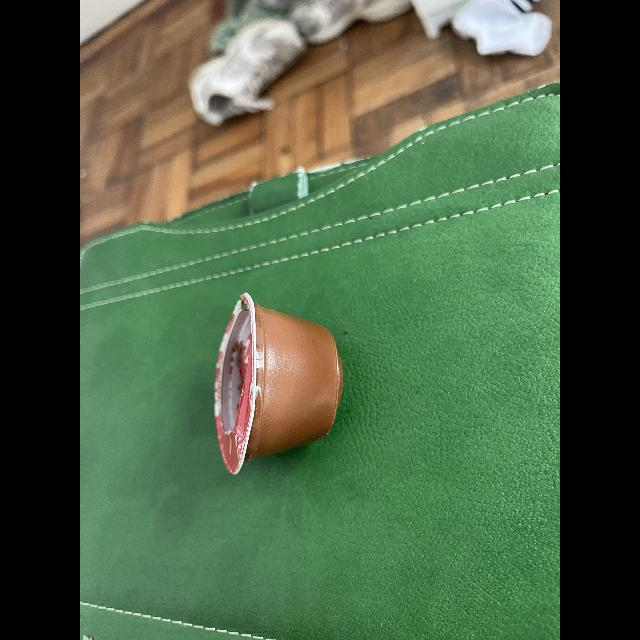damaged_capsule: (202, 293, 356, 477)
